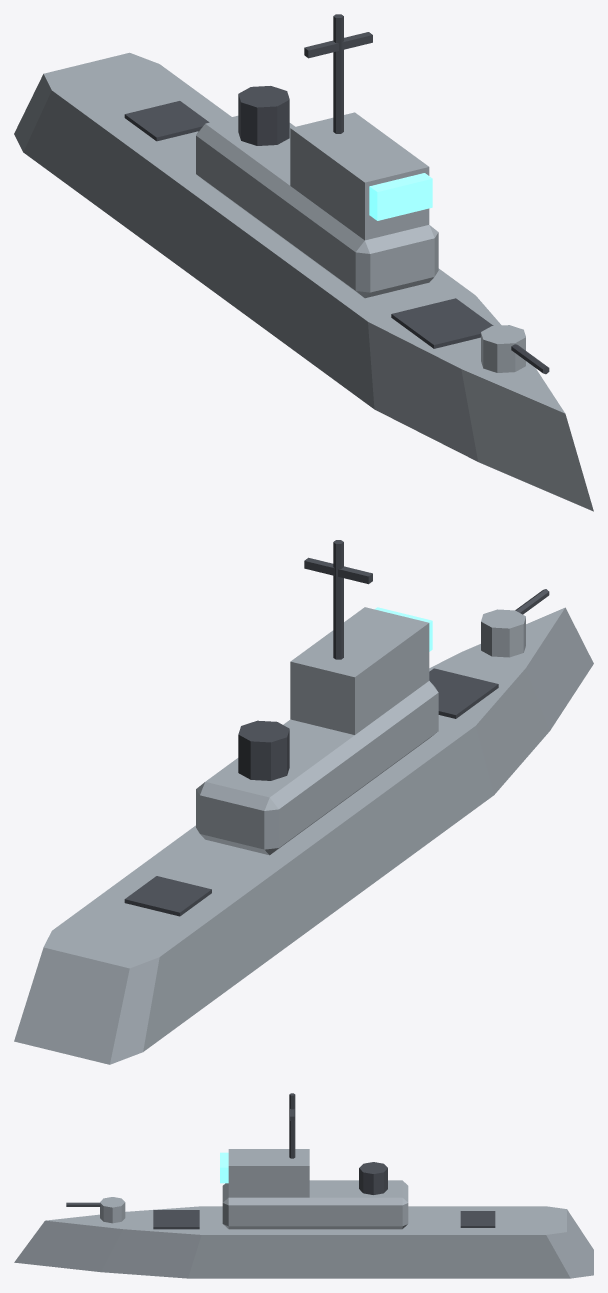
File: destroyer.glb
The picture shows the model from 3 angles, top to bottom: view 1: azimuth 30°, elevation 25°; view 2: azimuth 150°, elevation 25°; view 3: azimuth 270°, elevation 25°; orthographic projection. The views are drawn at different scales.
Visible parts, largest first — view 1: destroyer; view 2: destroyer; view 3: destroyer.
Part boxes in pixels (x1=…): destroyer: x1=14, y1=14, x2=593, y2=511; destroyer: x1=14, y1=540, x2=593, y2=1064; destroyer: x1=14, y1=1093, x2=593, y2=1278.
Size of the model in its own units: 0.13 by 0.32 by 1.
